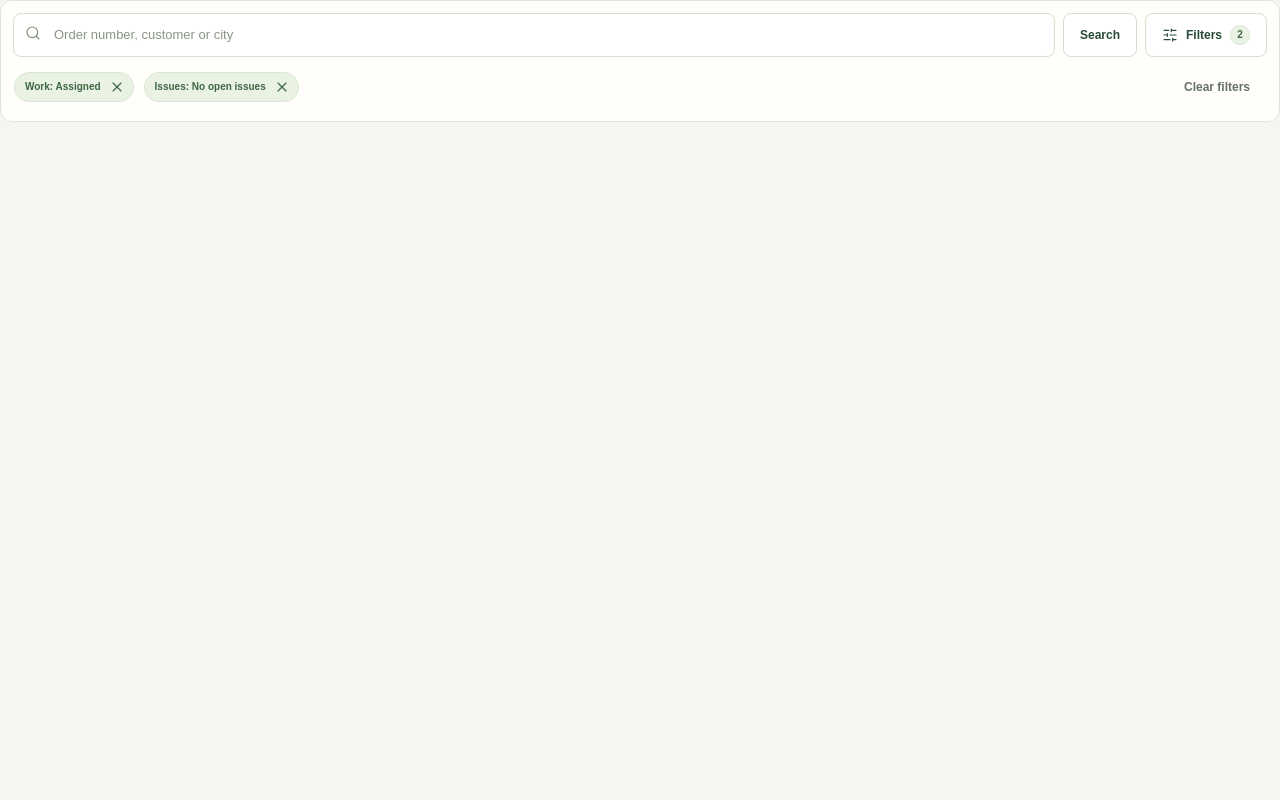
Scenario: Compact order filters › submits a trimmed search with current applied criteria, without reviving dismissed advanced choices
In the search field named "Search": {"x": 534, "y": 35} [13,13,1055,57], type "  Rome & chair  "
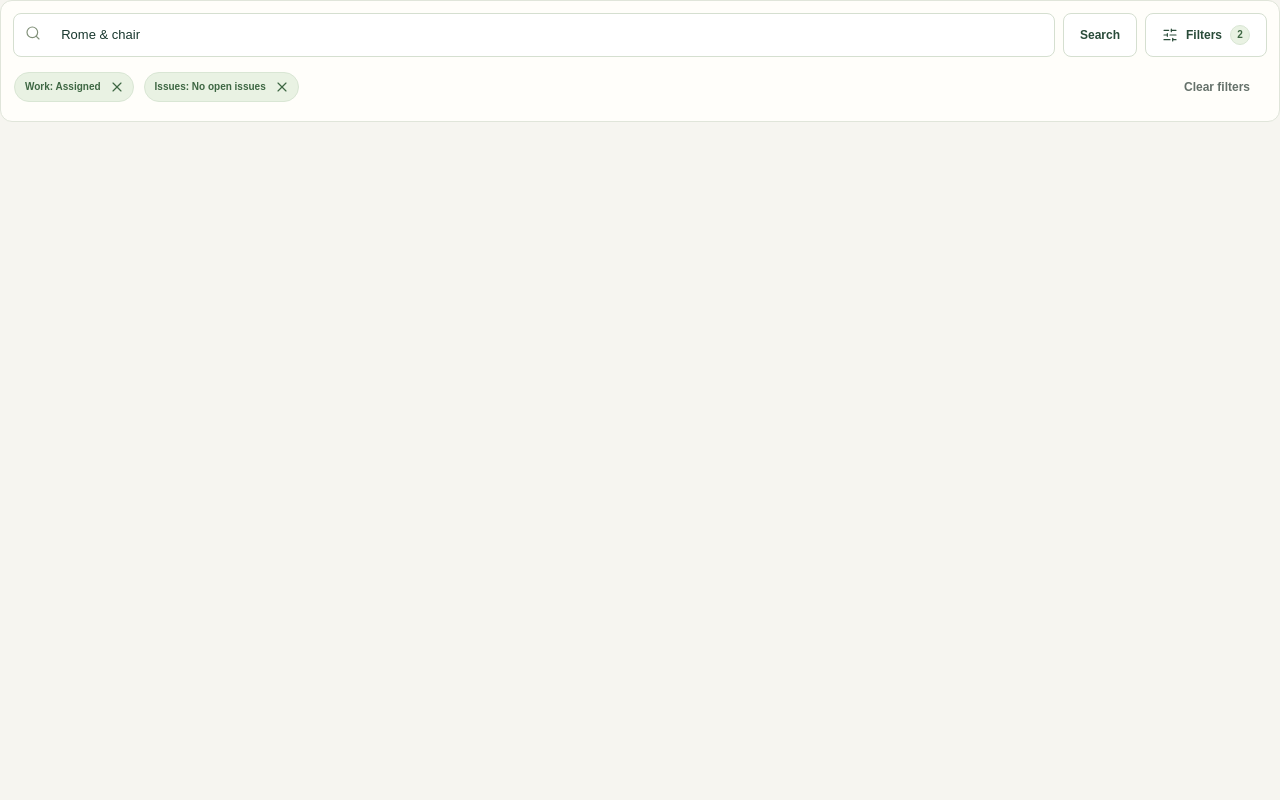
Click the button "Filters 2": {"x": 1206, "y": 35} [1145,13,1267,57]
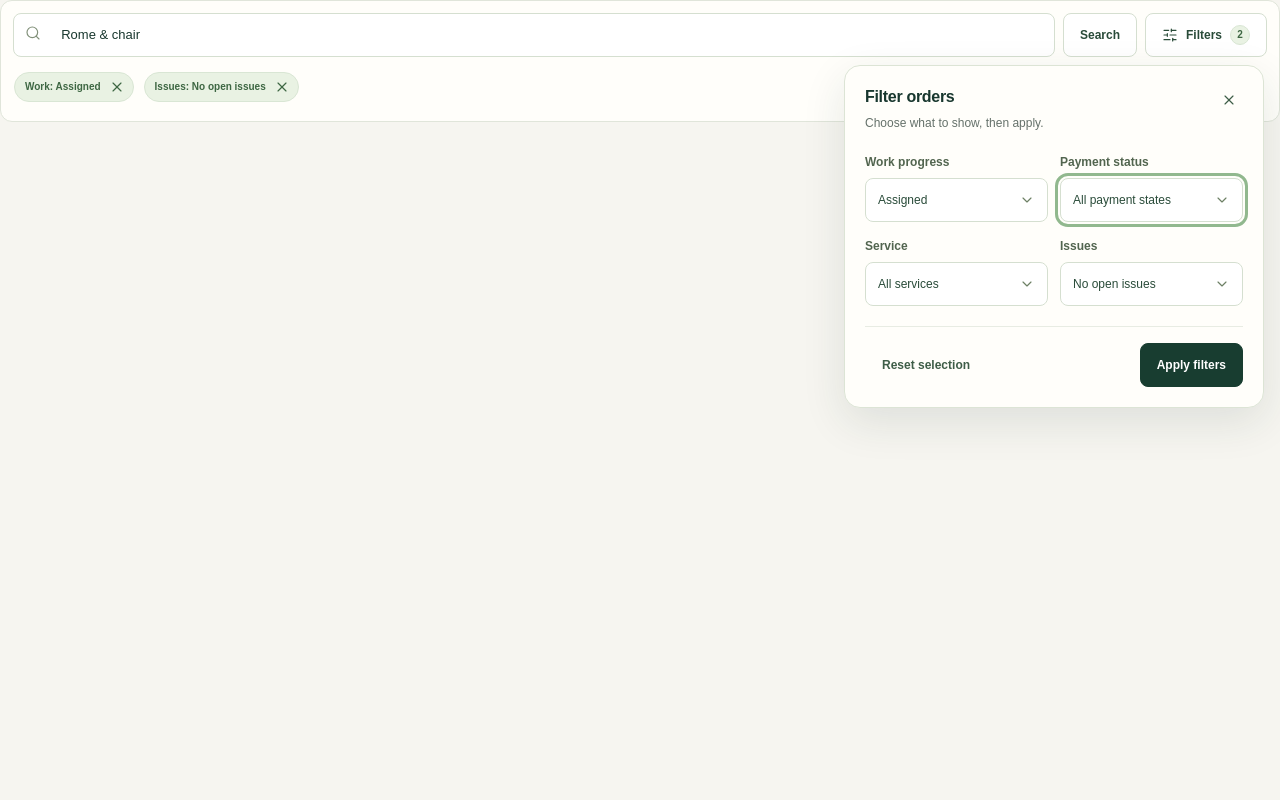
Press ArrowDown in the dropdown named "Payment status", box [1060,178,1243,222]
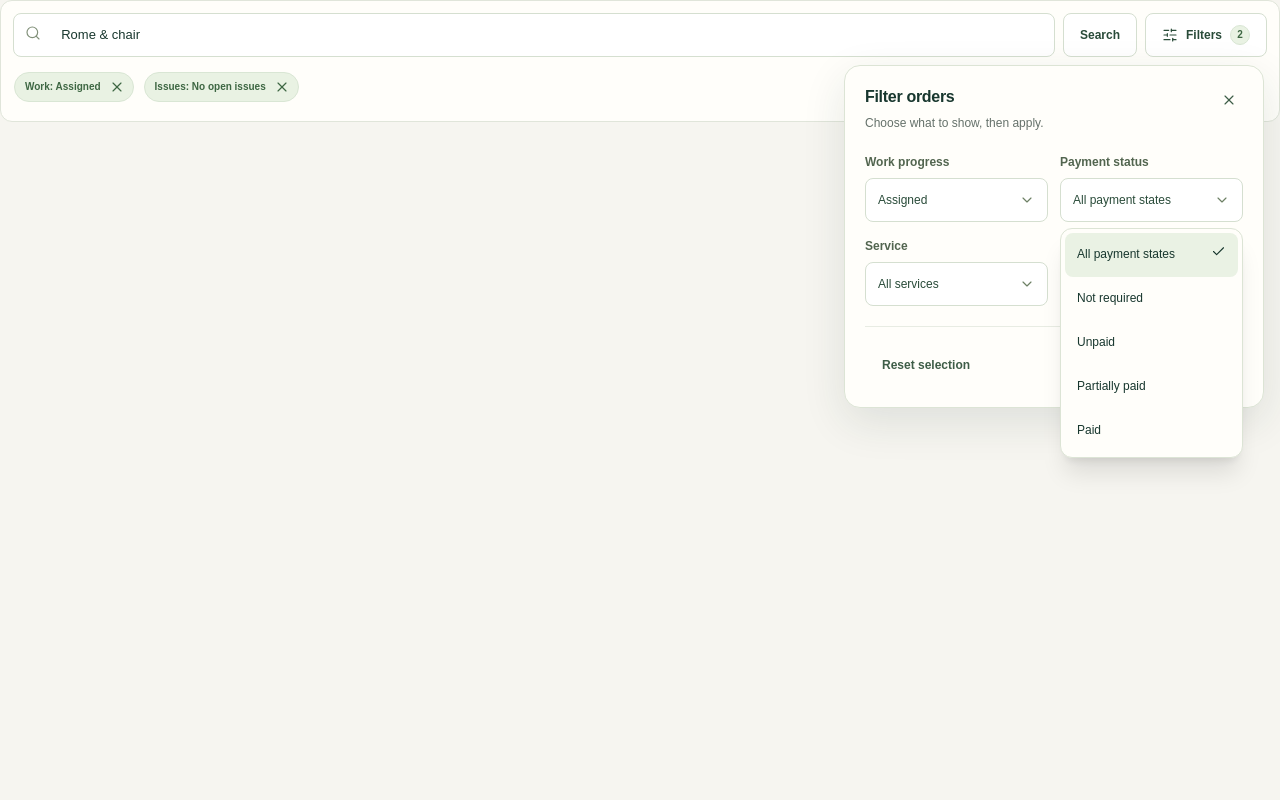
Press Enter in the option "Paid", box [1077,423,1101,437]
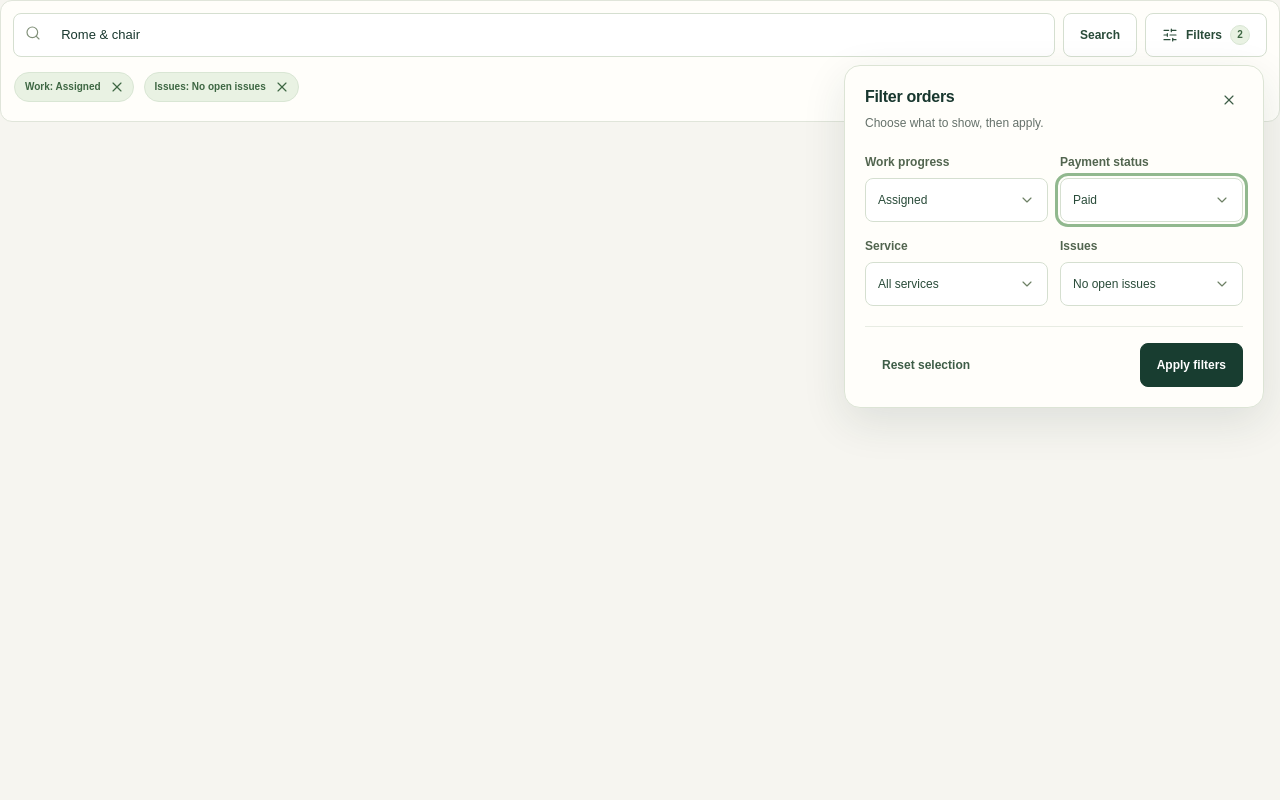
expect the dropdown named "Payment status" reads "Paid": met, box [1060,178,1243,222]
expect the list is gone: met
Press Escape
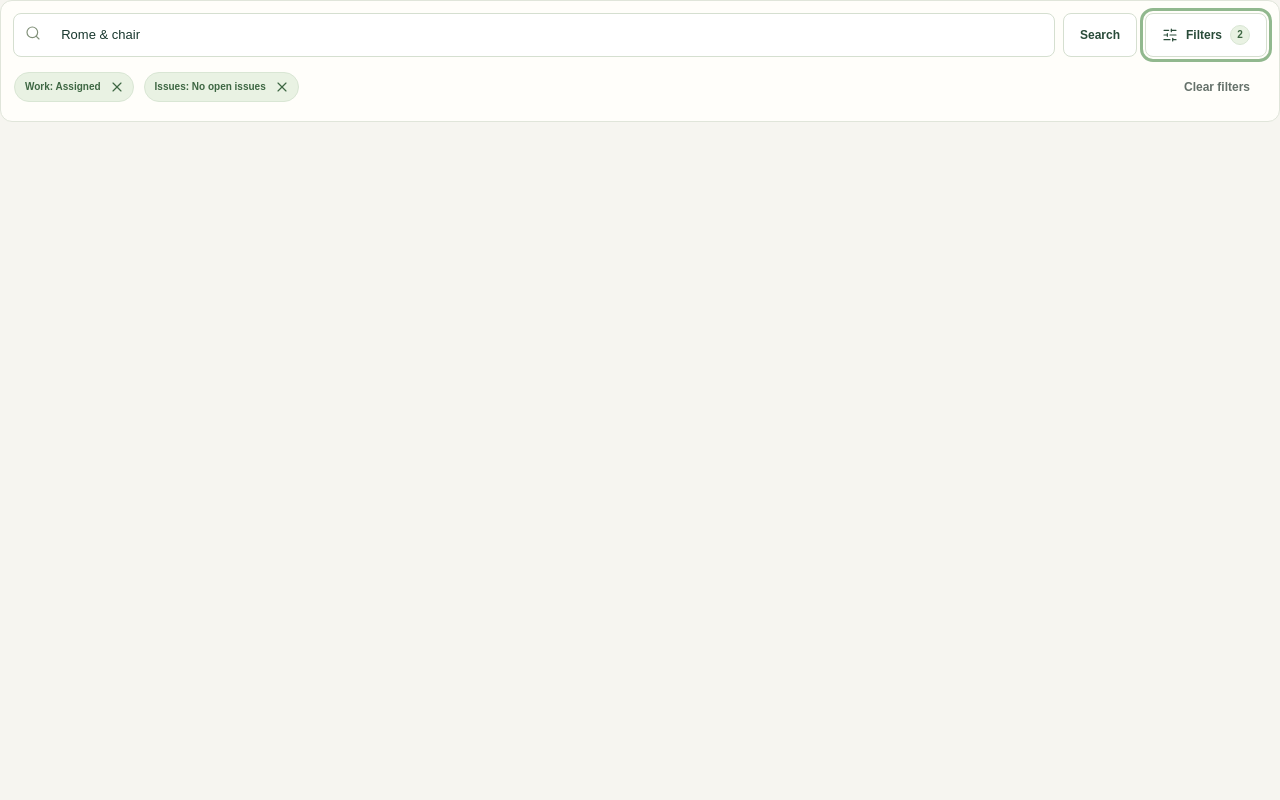
Submit the form named "Order search", box [13,13,1137,57]
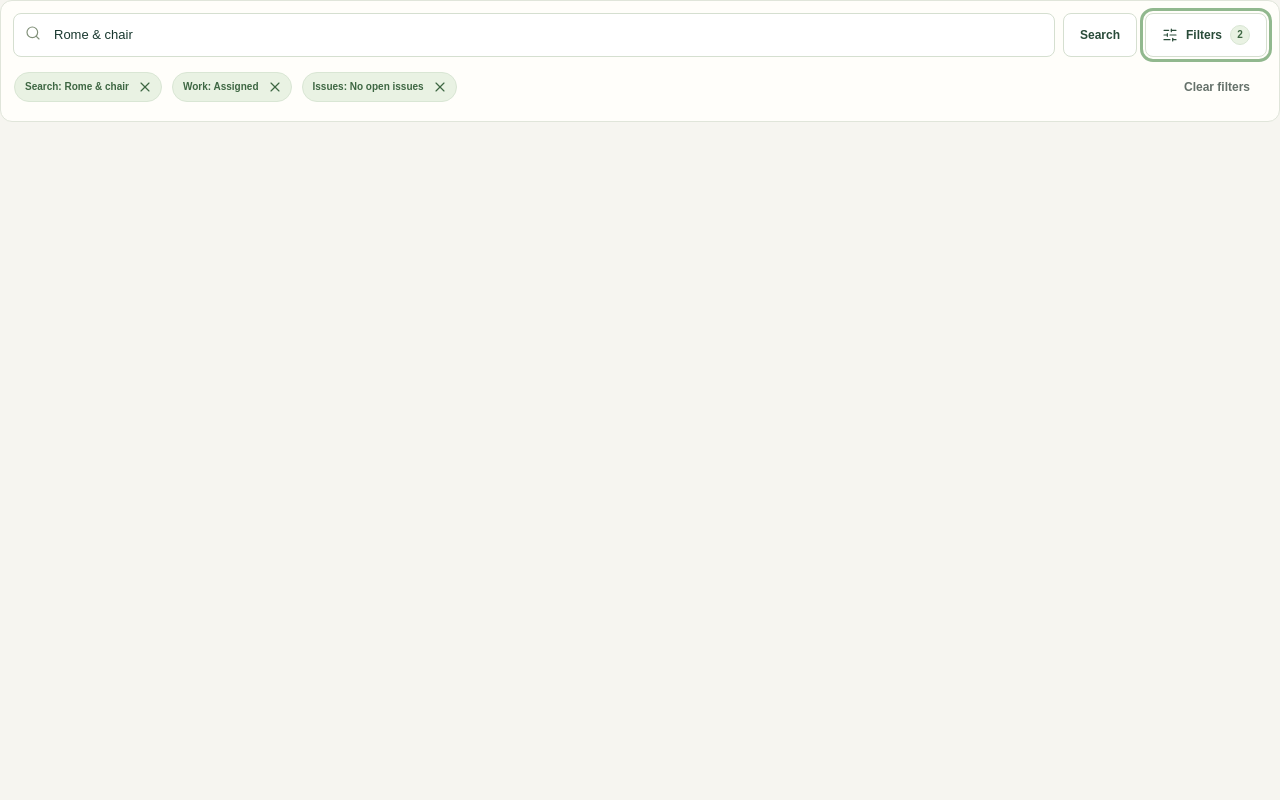
expect the button with aria-label "Remove search filter" is shown: met, box [13,65,163,109]
